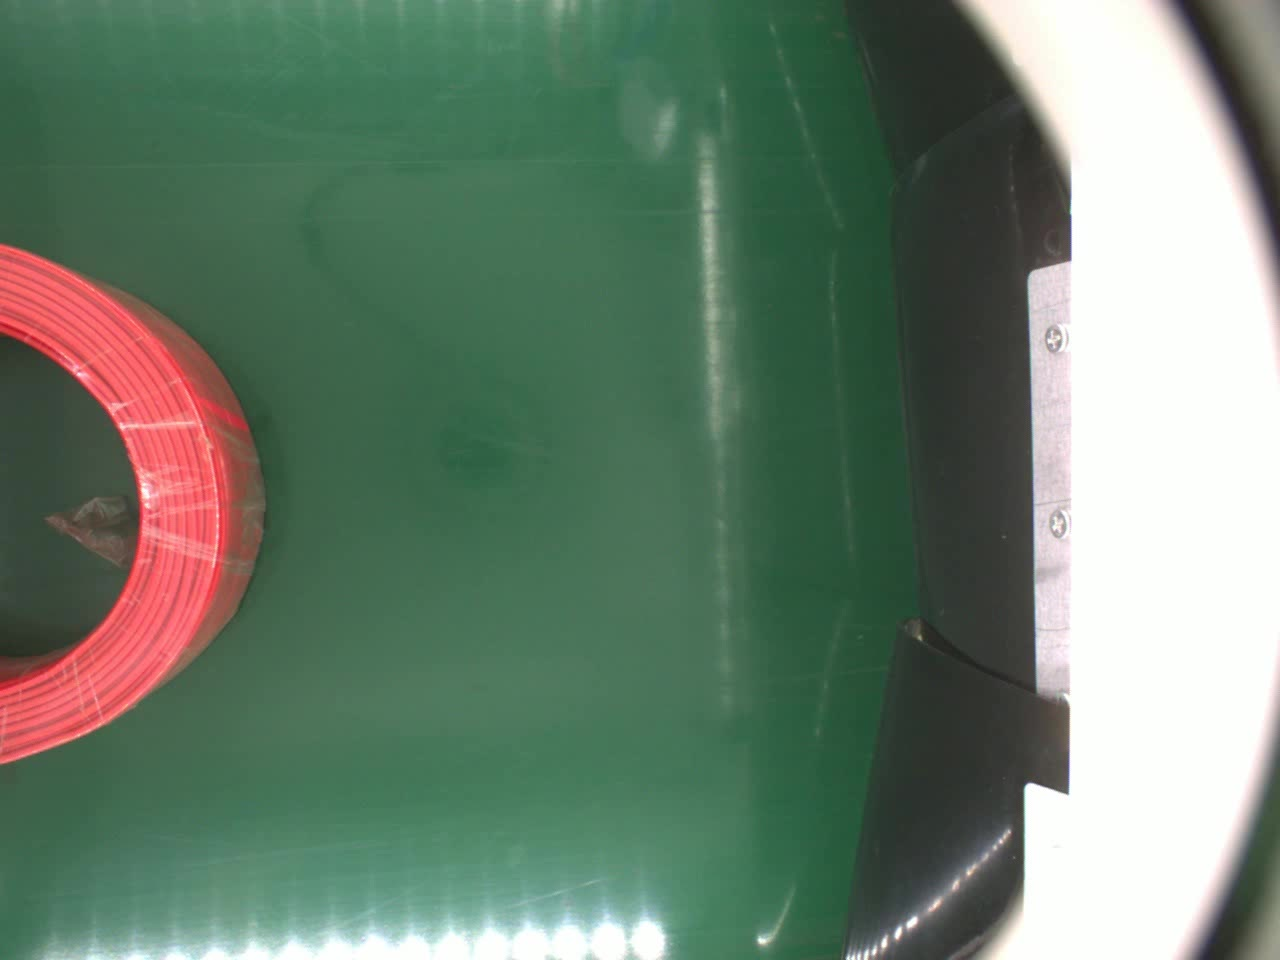red: (0, 237, 274, 768)
